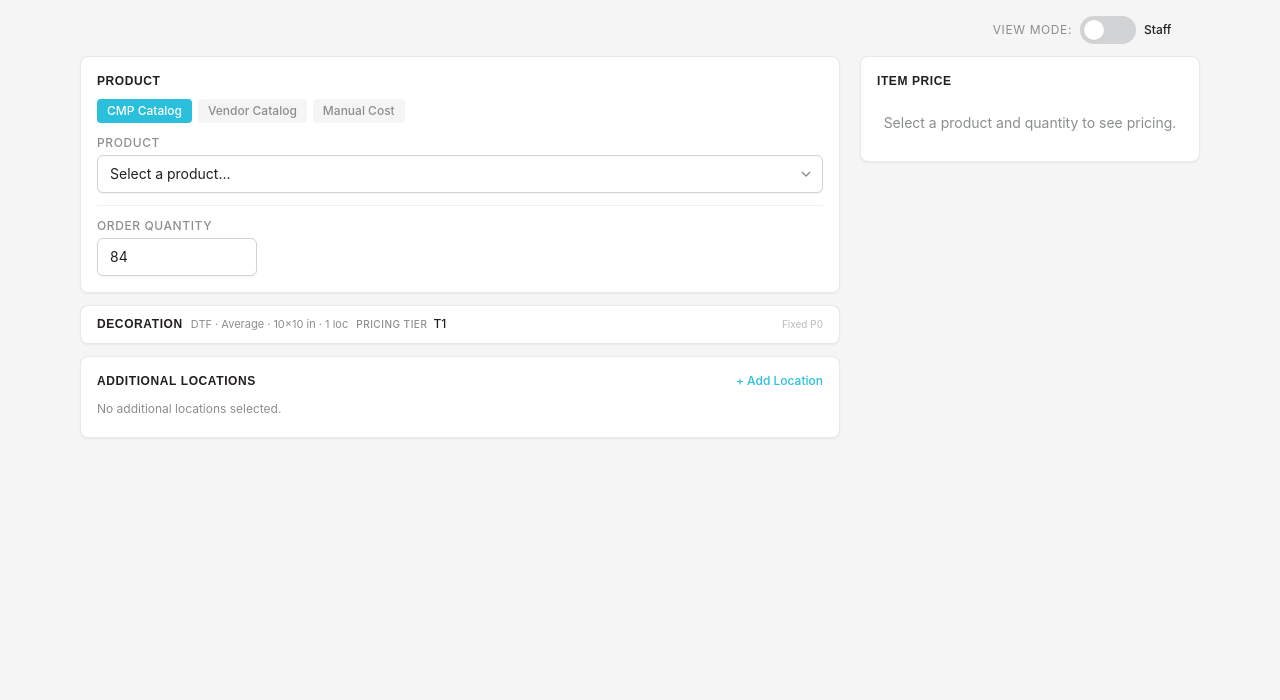
Test case: additional-location quantity race condition › clears stale location quotes on rapid quantity change and never mixes old location pricing into final totals
Note: Select product
Select "TEE-100 — Basic Tee" in the dropdown labelled "Product" at (460, 174), box [97,155,823,193]
Wait 360 ms
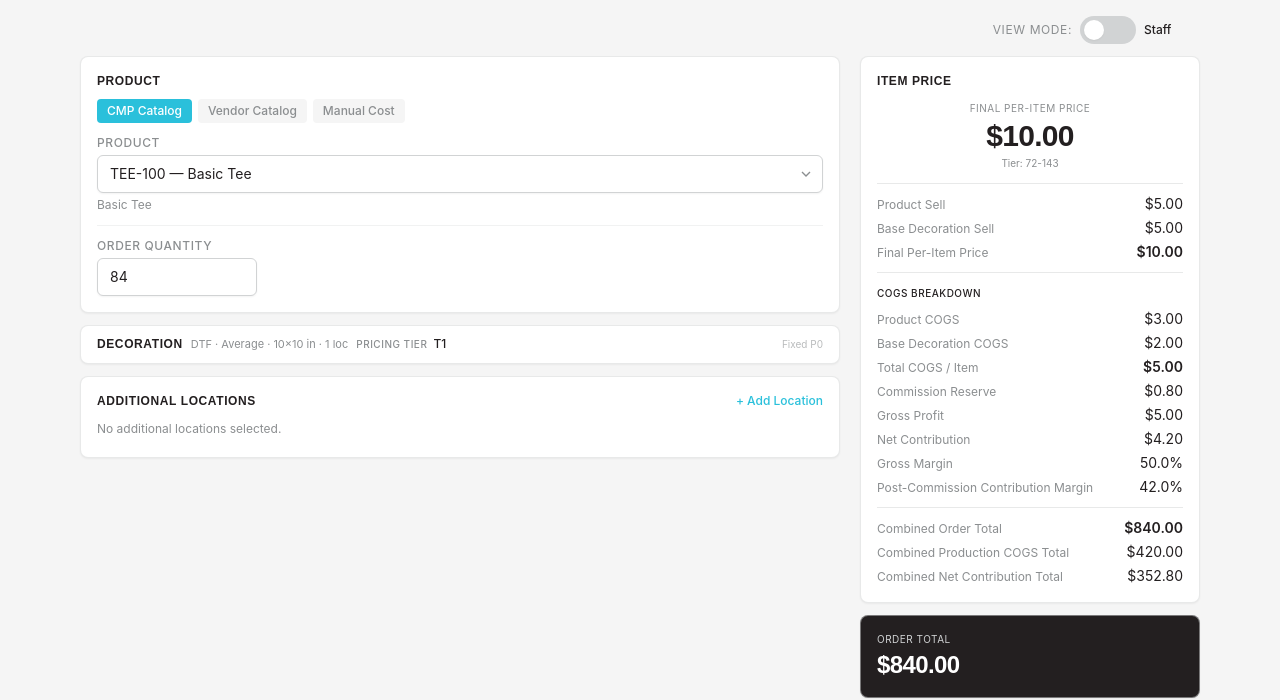
Expected: the text named "per-item price" reads "$10.00", [986,119,1074,152]
Click the button with test id "add-location-btn".
click(779, 400)  # box [736,392,823,408]
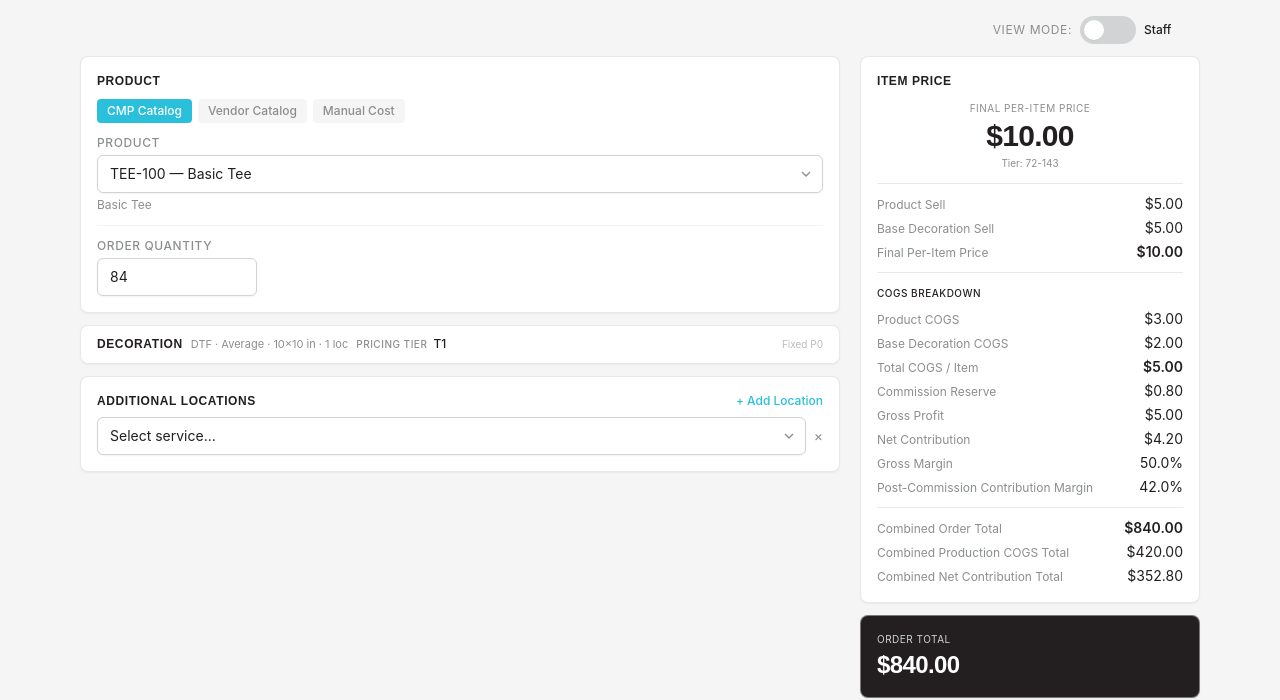
Select "Sleeve Print" in the dropdown named "Service for location loc-1" at (451, 436), box [97,416,806,454]
Wait 360 ms
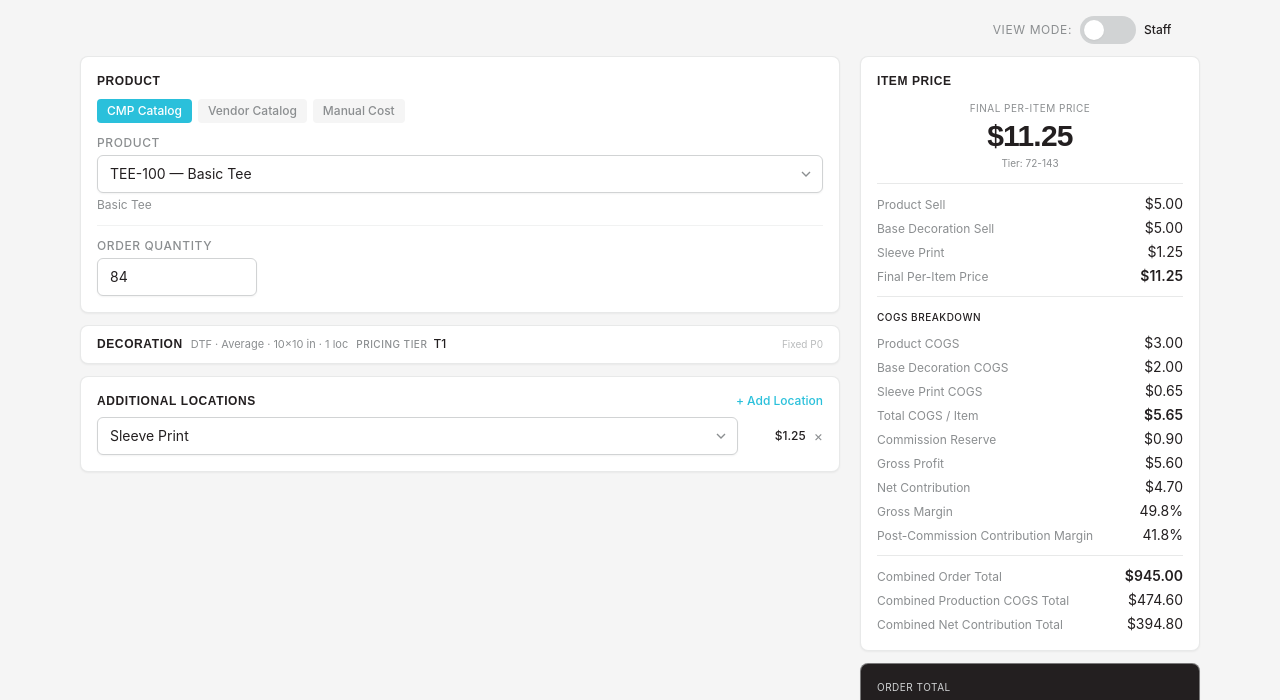
Expected: the text named "per-item price" reads "$11.25", [987,119,1073,152]
Replace the text in the number field labelled "Order Quantity" with "100" at (177, 277), box [97,258,257,296]
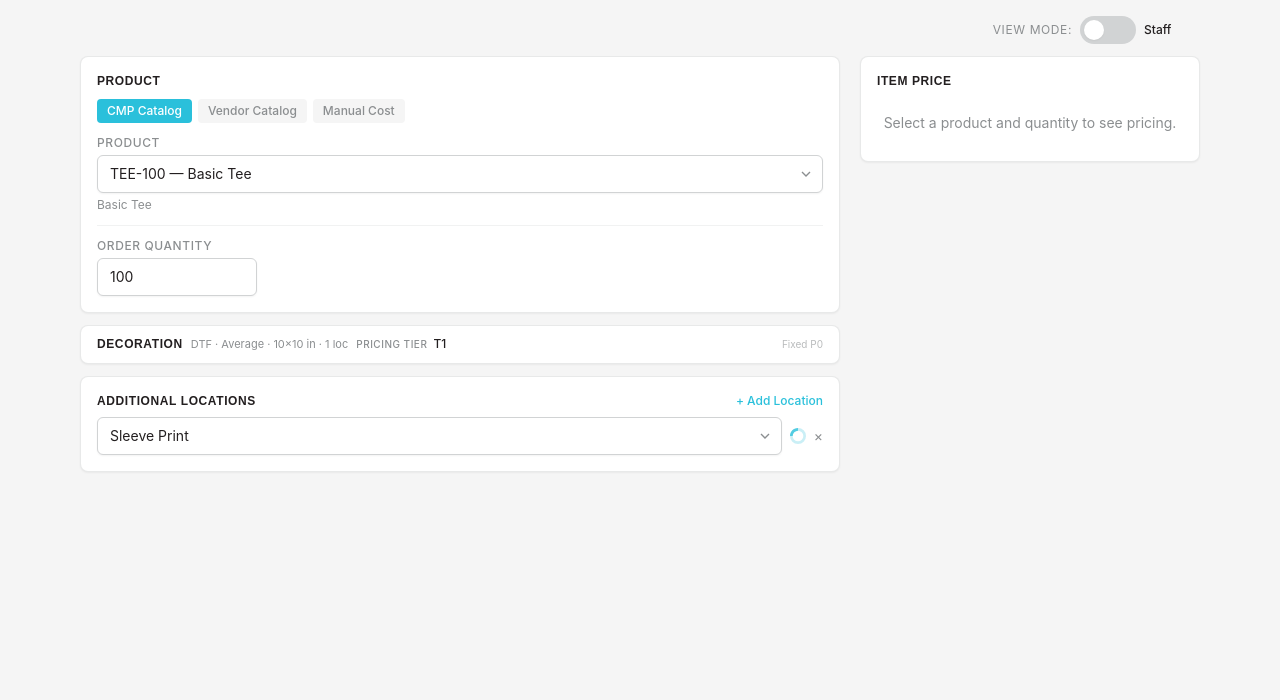
Replace the text in the number field labelled "Order Quantity" with "200" at (177, 277), box [97,258,257,296]
Wait 360 ms
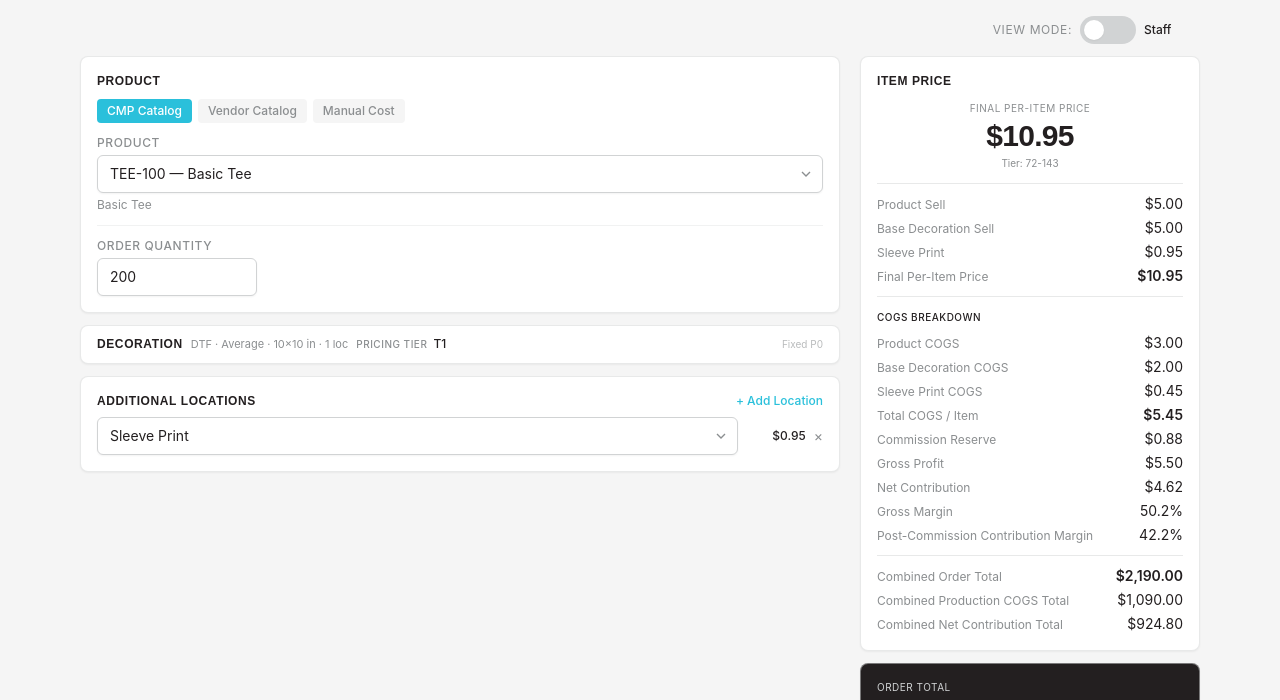
Expected: the element with test id "cogs-breakdown" shows "Sleeve Print COGS", [877,384,982,399]
Expected: the element with test id "cogs-breakdown" shows "$0.45", [1144,382,1183,399]
